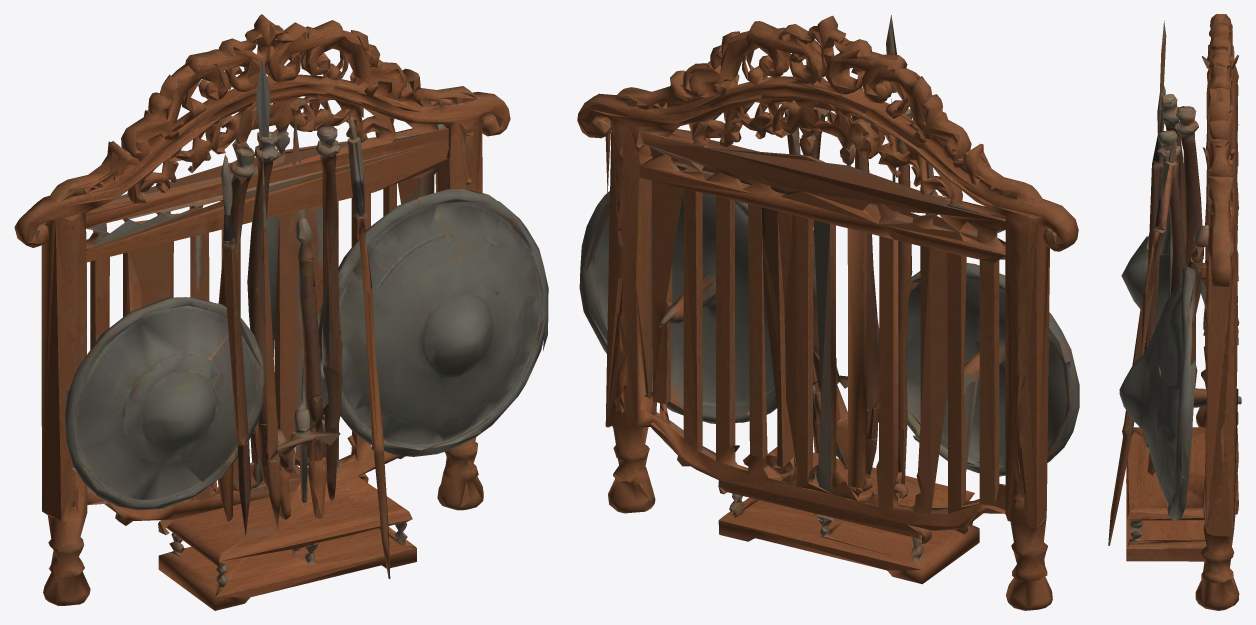
The model's file is weapon_rack.glb.
3 views of the same model, side by side, from view 1: azimuth 30°, elevation 25°; view 2: azimuth 150°, elevation 25°; view 3: azimuth 270°, elevation 25° (orthographic). The views are drawn at different scales.
Visible parts, largest first — view 1: weapon_rack; view 2: weapon_rack; view 3: weapon_rack.
Boxes of the visible parts, <box> form: weapon_rack: <box>14,14,548,610</box>; weapon_rack: <box>577,15,1079,610</box>; weapon_rack: <box>1108,14,1241,610</box>.
Bounding box in the file's own units: 2 × 2 × 0.4924.
Materials: 1 (1 with a texture image).
